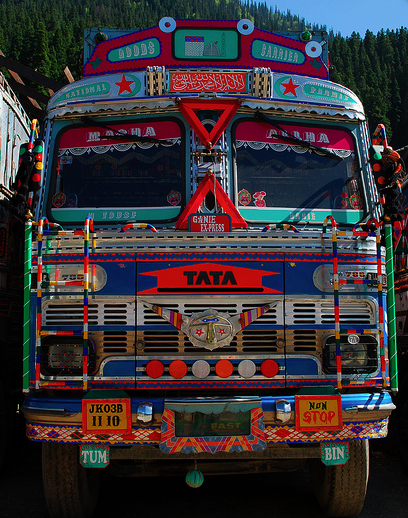truck: (18, 17, 395, 512)
